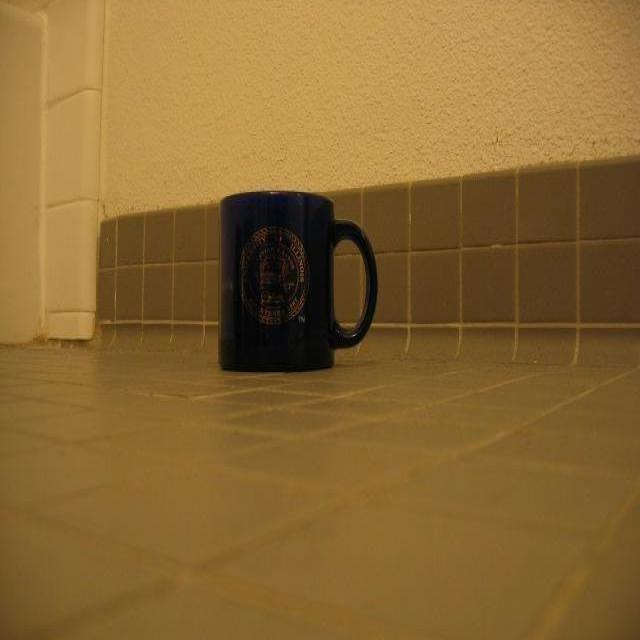cup-handle: (216, 190, 377, 374)
